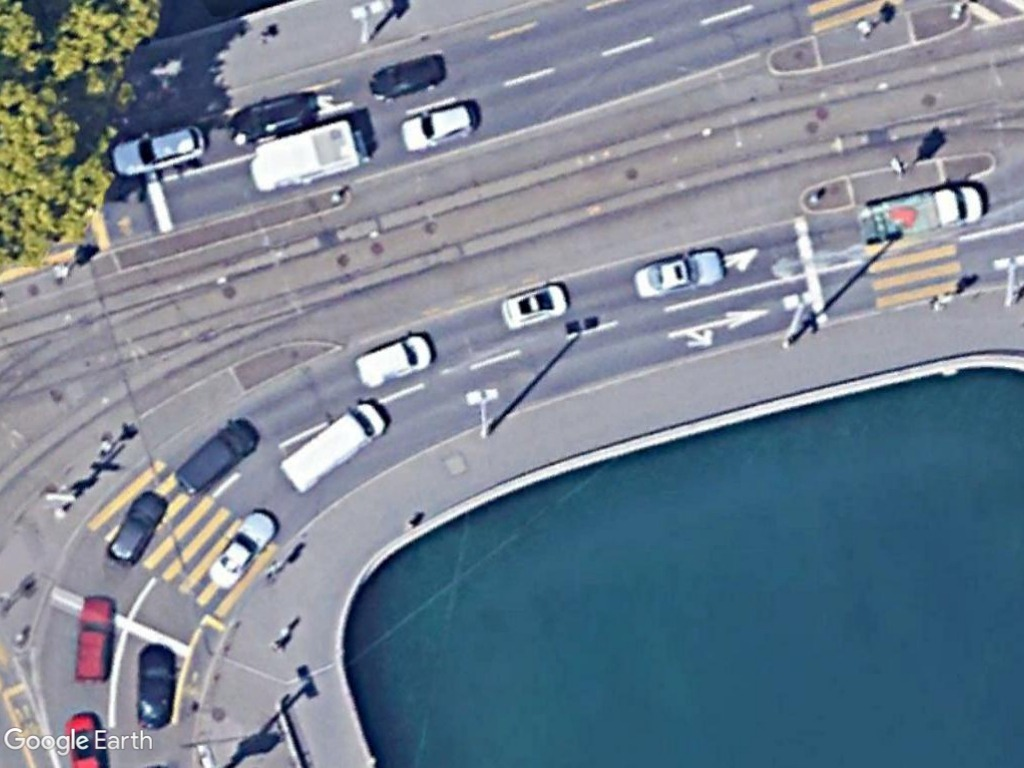car: (207, 509, 279, 590), (110, 123, 211, 180), (633, 245, 727, 301), (102, 490, 172, 564), (69, 592, 117, 689), (398, 103, 477, 155), (500, 281, 569, 331)
van: (277, 394, 389, 497), (172, 418, 261, 499), (354, 331, 433, 391)
